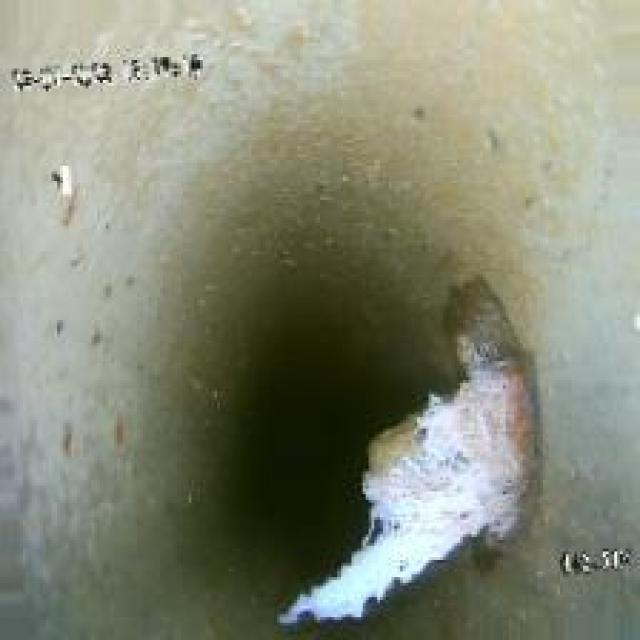ferrule: (343, 251, 537, 583)
